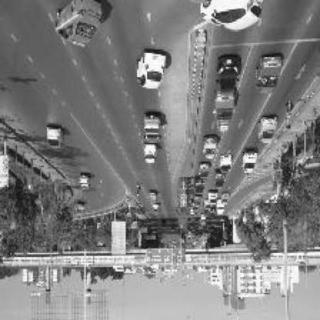other: (44, 6, 102, 50), (252, 116, 280, 146)
